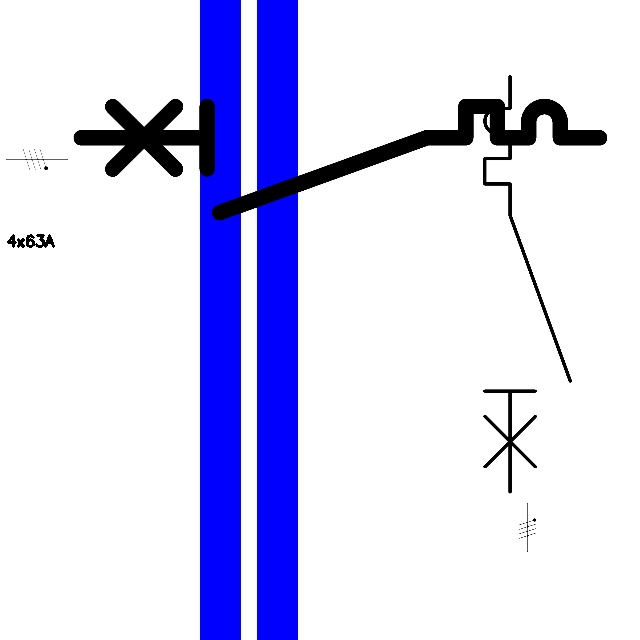interruptor_termomagnetico: (67, 93, 612, 226), (474, 66, 581, 502)
